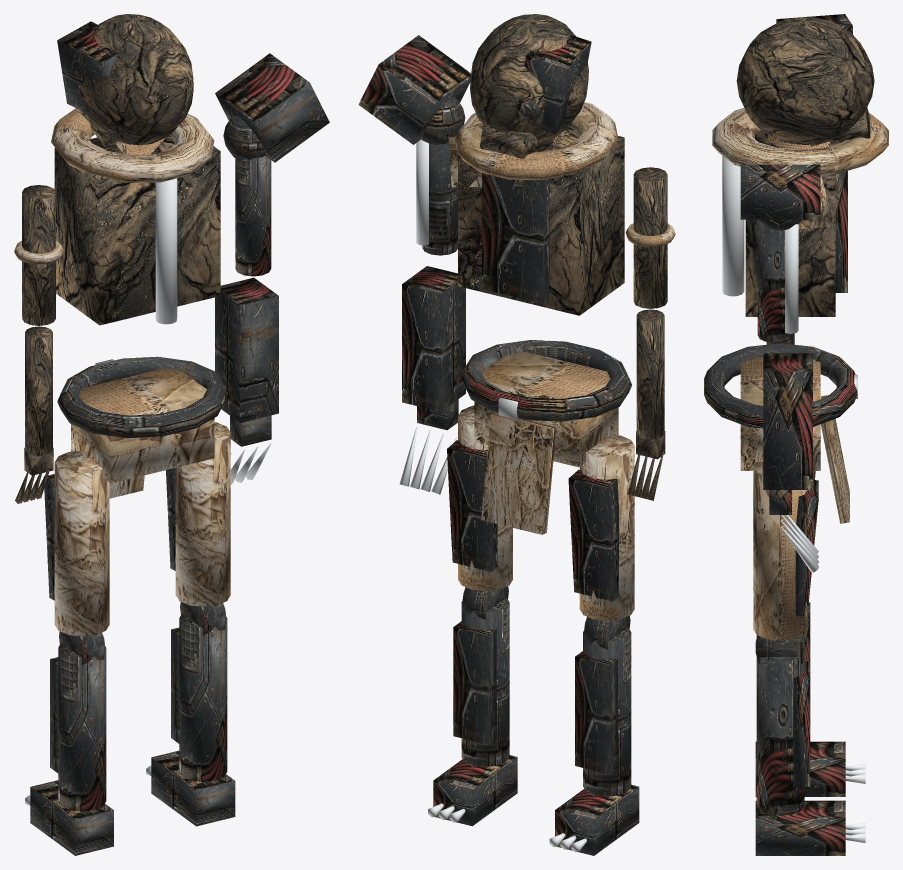
Rendered from cyborg_walker.glb.
The picture shows the model from 3 angles, left to right: view 1: azimuth 30°, elevation 25°; view 2: azimuth 150°, elevation 25°; view 3: azimuth 270°, elevation 25°; orthographic projection.
Parts seen in each view (by area): view 1: Chest_Body, Head_Cranium, Thigh_Core_L, Pelvis_Pants, Thigh_Core_R, Forearm_Armor_R, Shin_Core_R, Shin_Core_L, Pelvis_Belt, Shoulder_Pauldron_R, Head_CowlRags, Arm_Mummy_L (+16 smaller); view 2: Chest_Body, Head_Cranium, Forearm_Armor_R, Chest_CyberPlate, Pelvis_Loincloth, Pelvis_Pants, Shoulder_Pauldron_R, Pelvis_Belt, Head_CowlRags, Thigh_Plate_L, Shin_Plate_R, Thigh_Core_L (+19 smaller); view 3: Head_Cranium, Forearm_Armor_R, Shin_Core_R, Thigh_Core_R, Chest_Body, Pelvis_Belt, Head_CowlRags, Shoulder_Pauldron_R, Boot_Main_R, Arm_Cyber_R, Chest_SpineHydraulic, Pelvis_Pants (+11 smaller).
Boxes of the visible parts, x1,y1,x2,y2 form: Chest_Body: [54, 135, 220, 325]; Head_Cranium: [80, 14, 193, 145]; Thigh_Core_L: [54, 451, 109, 636]; Pelvis_Pants: [71, 368, 214, 483]; Thigh_Core_R: [175, 422, 230, 606]; Forearm_Armor_R: [215, 277, 278, 422]; Shin_Core_R: [179, 613, 227, 781]; Shin_Core_L: [58, 643, 106, 811]; Pelvis_Belt: [57, 356, 227, 438]; Shoulder_Pauldron_R: [215, 53, 329, 162]; Head_CowlRags: [51, 108, 214, 182]; Arm_Mummy_L: [22, 185, 55, 325]; Chest_Body: [458, 126, 624, 315]; Head_Cranium: [470, 14, 588, 140]; Forearm_Armor_R: [402, 266, 465, 411]; Chest_CyberPlate: [482, 173, 549, 303]; Pelvis_Loincloth: [481, 412, 556, 534]; Pelvis_Pants: [474, 351, 618, 467]; Shoulder_Pauldron_R: [358, 35, 470, 144]; Pelvis_Belt: [460, 340, 631, 421]; Head_CowlRags: [454, 102, 618, 179]; Thigh_Plate_L: [568, 469, 618, 601]; Shin_Plate_R: [453, 621, 496, 744]; Thigh_Core_L: [579, 434, 634, 620]; Head_Cranium: [736, 17, 874, 144]; Forearm_Armor_R: [763, 353, 812, 489]; Shin_Core_R: [756, 657, 804, 815]; Thigh_Core_R: [753, 462, 807, 640]; Chest_Body: [745, 130, 835, 316]; Pelvis_Belt: [704, 343, 857, 428]; Head_CowlRags: [712, 108, 888, 175]; Shoulder_Pauldron_R: [740, 164, 820, 219]; Boot_Main_R: [755, 800, 845, 855]; Arm_Cyber_R: [757, 219, 793, 342]; Chest_SpineHydraulic: [722, 156, 744, 296]; Pelvis_Pants: [740, 357, 820, 470].
Size of the model in its own units: 0.6767 by 1.76 by 0.37.
Materials: 5 (4 with a texture image).
